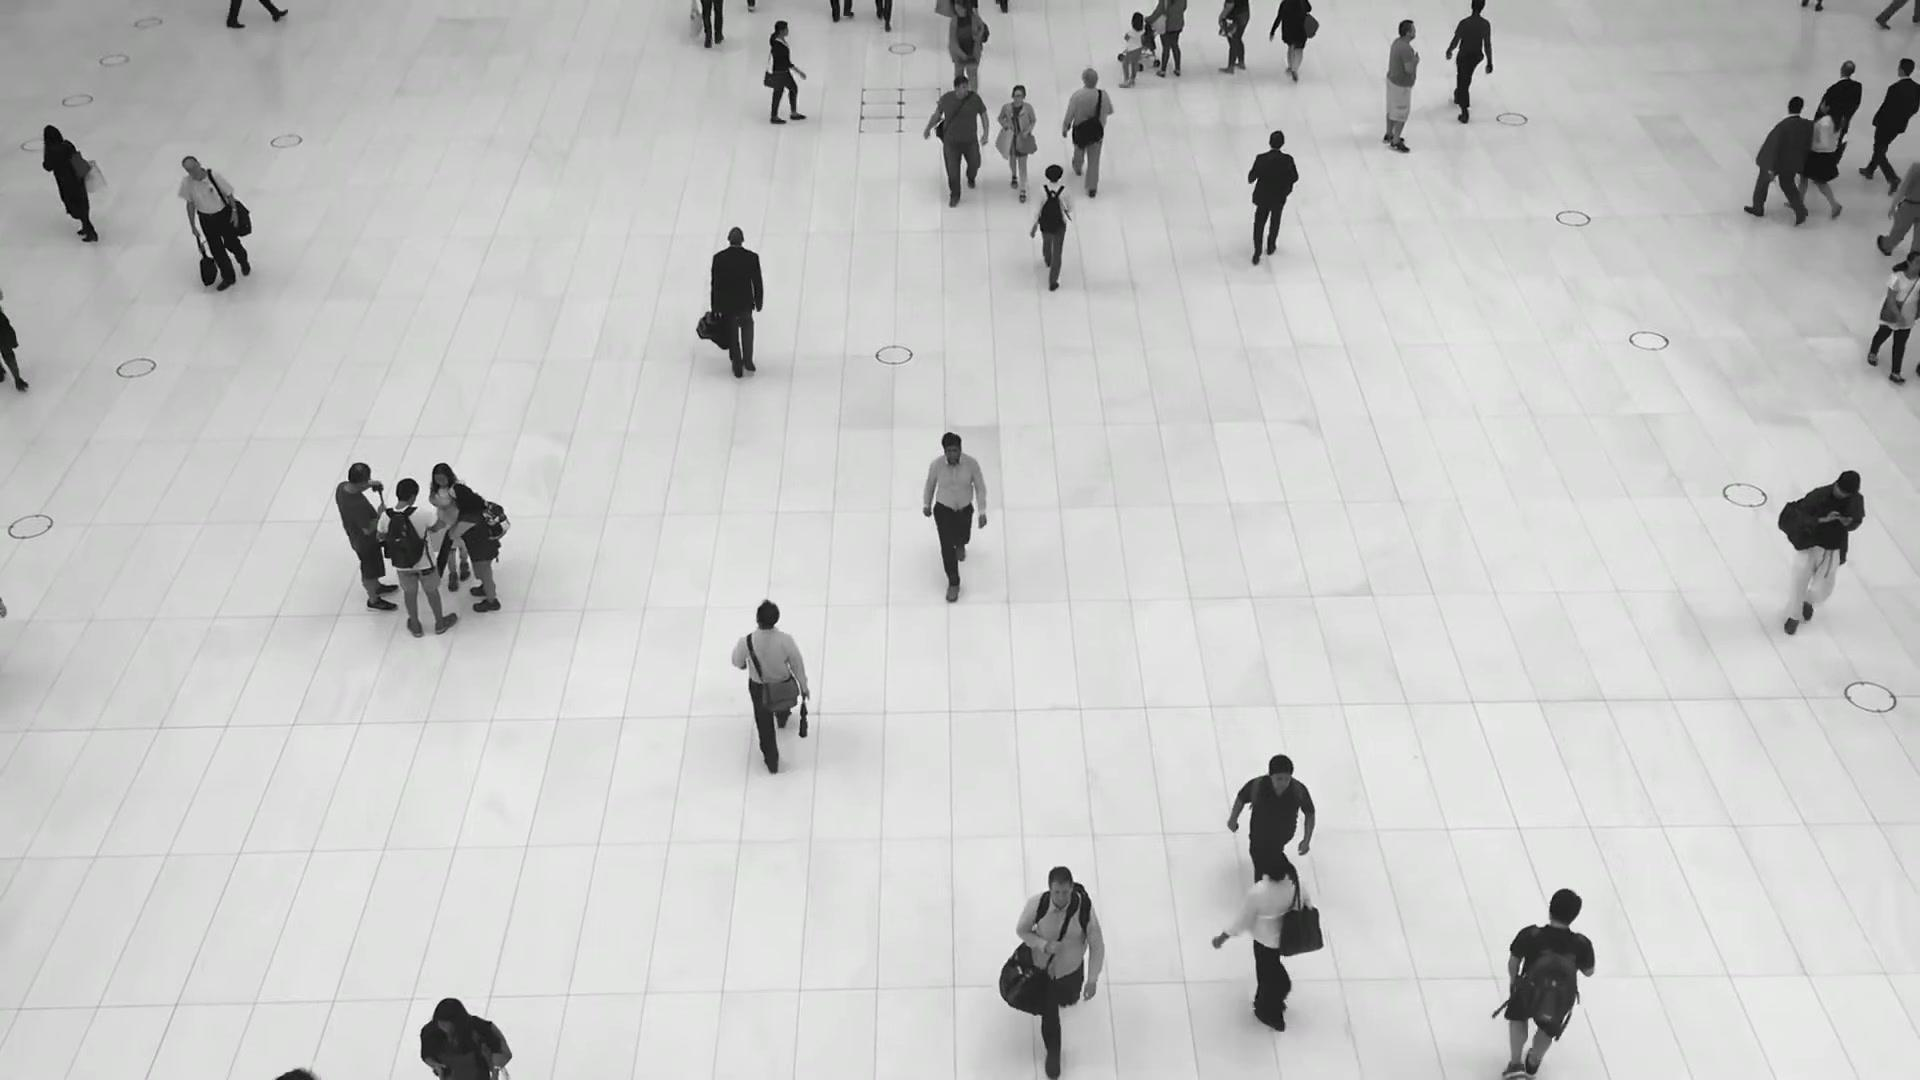person: (1215, 848, 1317, 1045), (1016, 865, 1107, 1075), (1501, 888, 1594, 1080), (1781, 472, 1866, 651), (376, 476, 460, 635), (733, 598, 808, 769), (1227, 753, 1316, 881), (922, 429, 989, 596), (180, 156, 250, 296), (335, 460, 400, 610), (1742, 93, 1815, 224), (710, 228, 766, 390), (929, 73, 991, 205), (1244, 129, 1300, 266), (1862, 55, 1920, 187), (41, 121, 100, 243), (1866, 250, 1919, 384), (449, 481, 501, 612), (1061, 65, 1114, 194), (419, 997, 501, 1080), (1790, 93, 1844, 217), (1445, 0, 1493, 117), (1028, 161, 1073, 285), (759, 19, 811, 124), (427, 461, 470, 587), (1383, 18, 1420, 152), (998, 84, 1038, 198), (945, 0, 988, 90), (1269, 0, 1312, 84), (1116, 10, 1146, 87)
